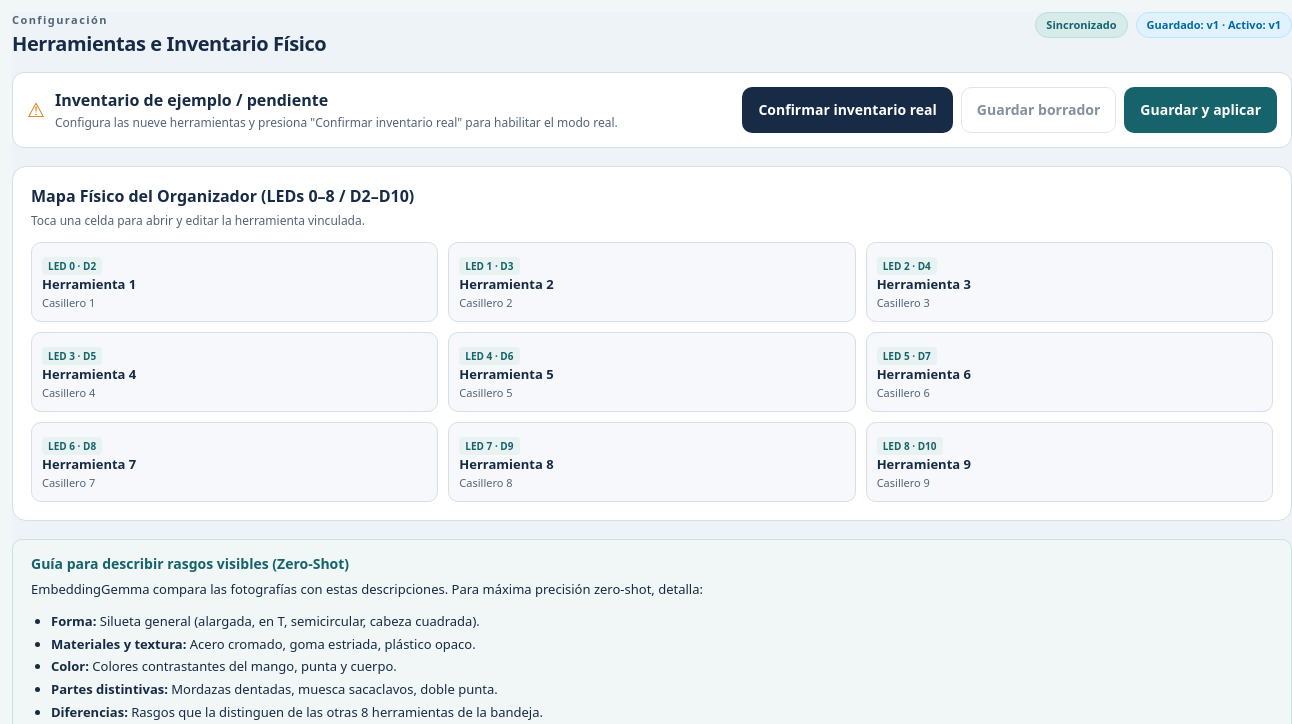
Scenario: ToolManager component › confirms real inventory and converts example state to real
Expected: the text "Inventario de ejemplo / pendiente" is shown, [55,89,328,111]
Step 1. Click the button "Confirmar inventario real" → (848, 110), box [742,87,953,133]
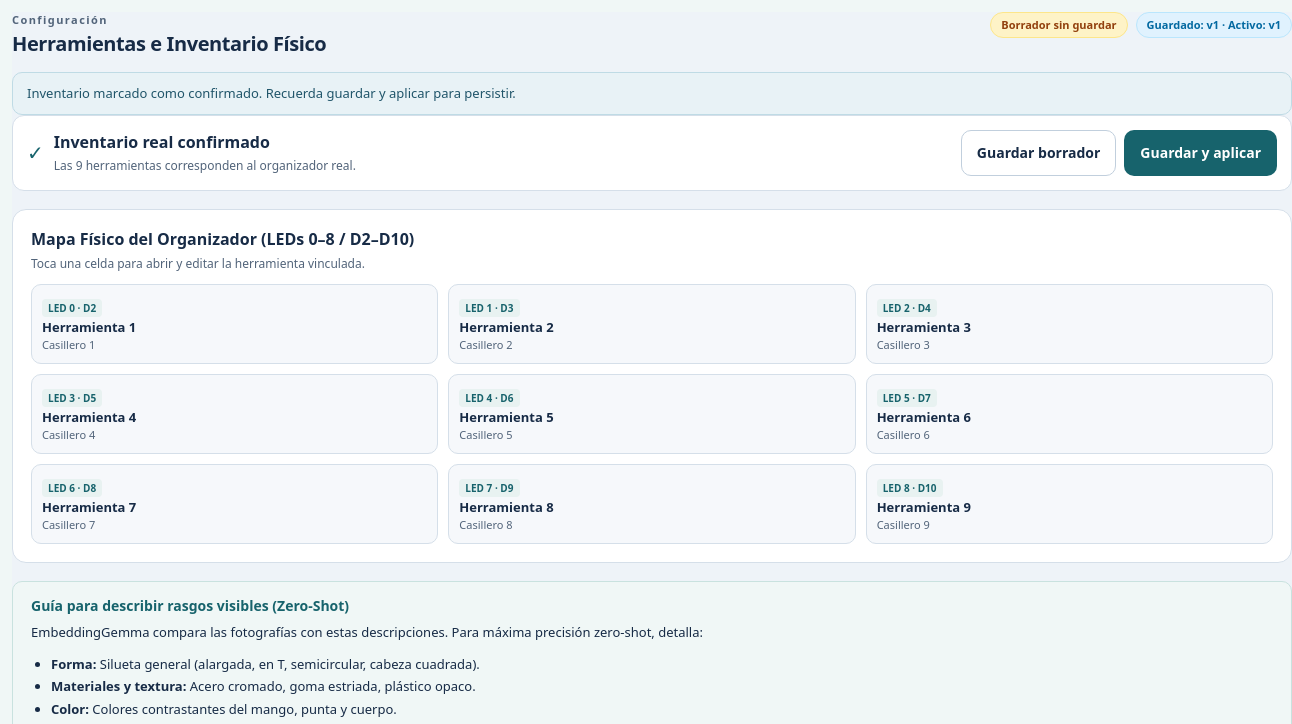
Expected: the text "Inventario real confirmado" is shown, [54,132,270,154]
Expected: the text "Inventario marcado como confirmado. Recuerda guardar y aplicar para persistir." is shown, [12,72,1291,115]
